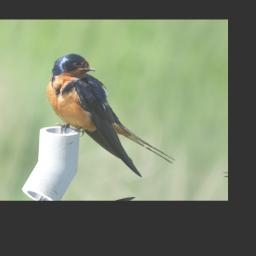Swallow: (27, 47, 199, 183)
